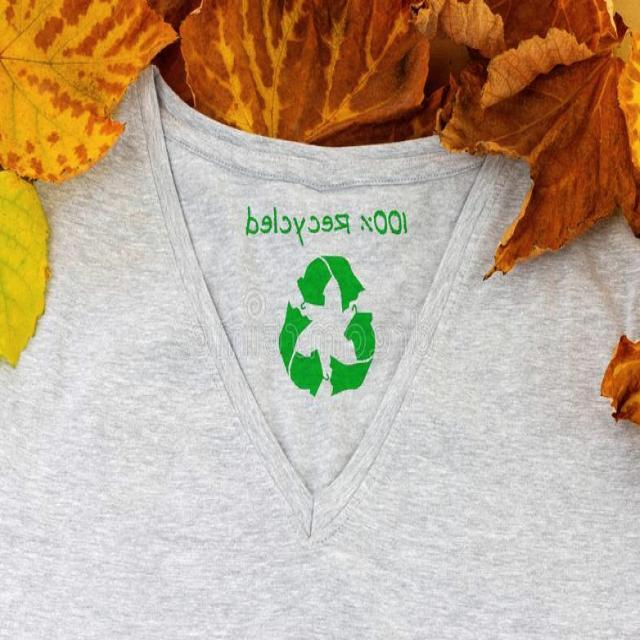clothes: (0, 170, 626, 640)
